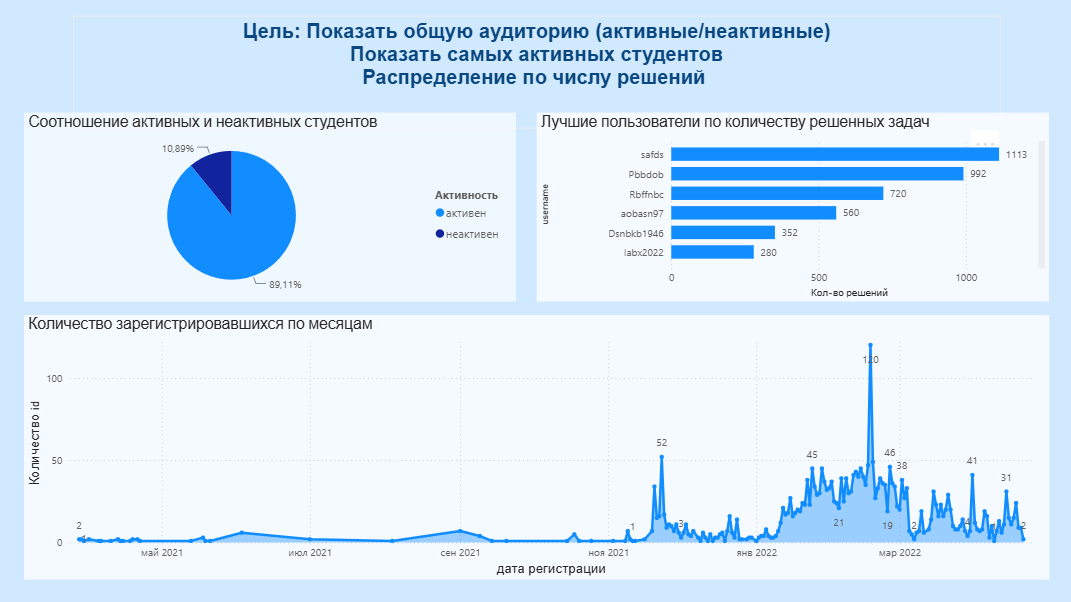

The page's visual inventory and layout, read from the dashboard file:
{"tool":"powerbi","page":{"name":"Пользователи","canvas":[1280,720],"ordinal":2},"visuals":[{"type":"textbox","box":[87.1,18.6,1105.7,135.7],"z":0},{"type":"pieChart","title":"Соотношение активных и неактивных студентов","fields":{"Y":["public codesubmit.Кол-во студентов"],"Category":["public users.Активность"]},"box":[28.6,134.3,587.1,225.7],"z":1000},{"type":"clusteredBarChart","title":"Лучшие пользователи по количеству решенных задач","fields":{"Category":["public users.username"],"Y":["public codesubmit.Кол-во решений"]},"box":[640,134.3,611.4,225.7],"z":2000},{"type":"lineChart","title":"Количество зарегистрировавшихся по месяцам","fields":{"Category":["public users.date_joined"],"Y":["CountNonNull(public users.id)"]},"box":[28.6,375.7,1222.9,315.7],"z":3000}]}

Visuals, with their boxes in screenshot pixels (x1, y1, x2, y2), scaled from the page's 1280x720 canvas onto the 1071x602 screenshot:
textbox: box=[73, 16, 998, 129]
"Соотношение активных и неактивных студентов" pieChart: box=[24, 112, 515, 301]
"Лучшие пользователи по количеству решенных задач" clusteredBarChart: box=[536, 112, 1047, 301]
"Количество зарегистрировавшихся по месяцам" lineChart: box=[24, 314, 1047, 578]
